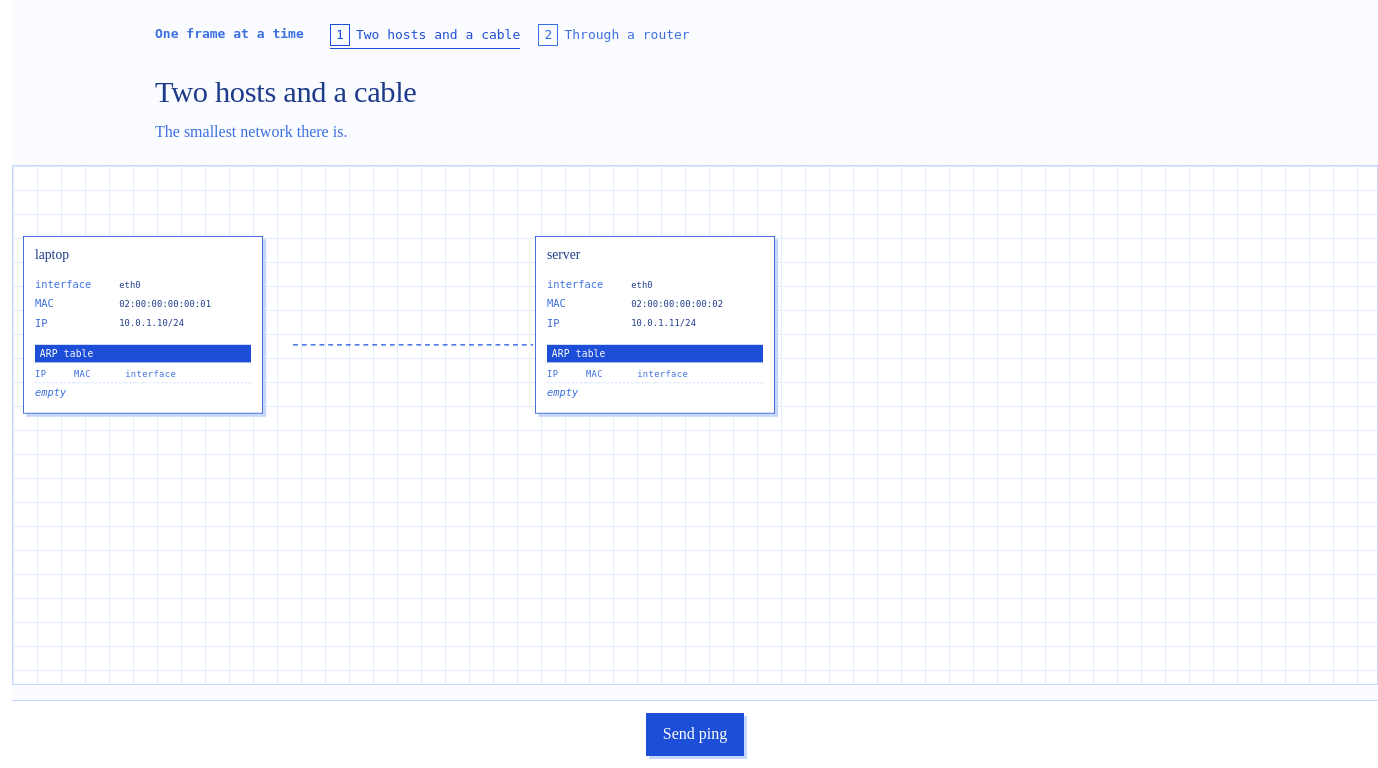
Test: lesson 1 › writes a learned row into the ARP table on the node that learned it
Step 1. Click the button "Send ping" → coordinates (695, 735), box 646,713 -> 744,756
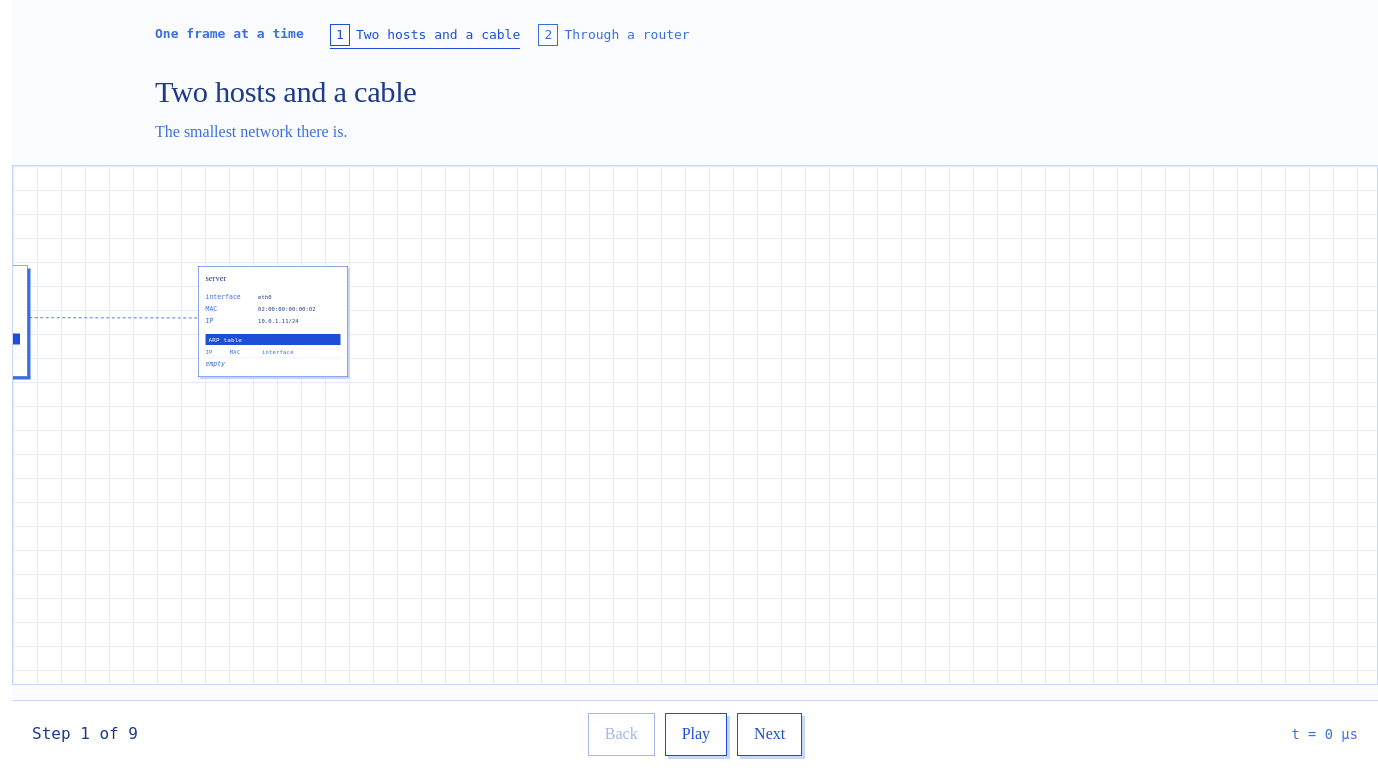
Expected: the text "02:00:00:00:00:01" is not shown
Step 2. Click the button "Next" → coordinates (770, 735), box 737,713 -> 802,756
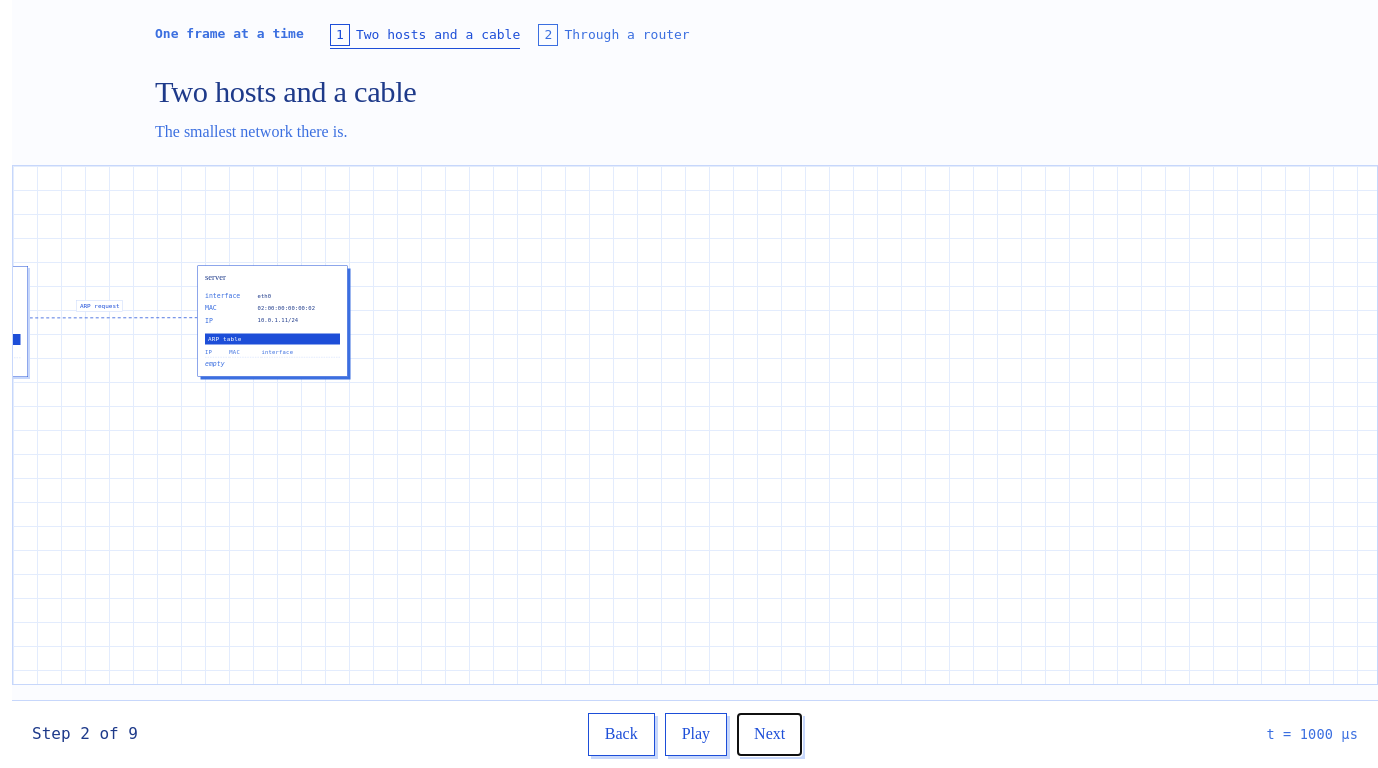
Step 3. Click the button "Next" → coordinates (770, 735), box 737,713 -> 802,756
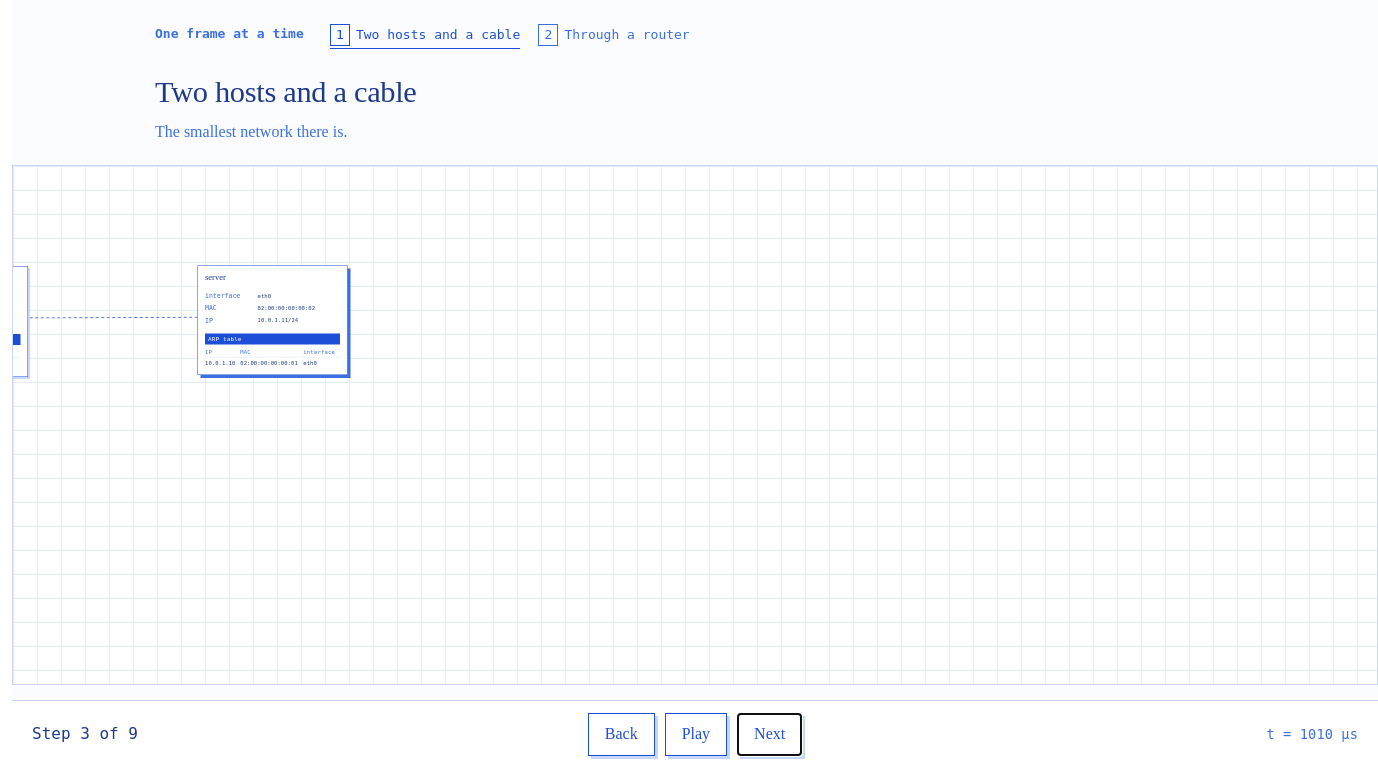
Expected: the text "02:00:00:00:00:01" below "10.0.1.11/24" is shown, 240,360 -> 298,366
